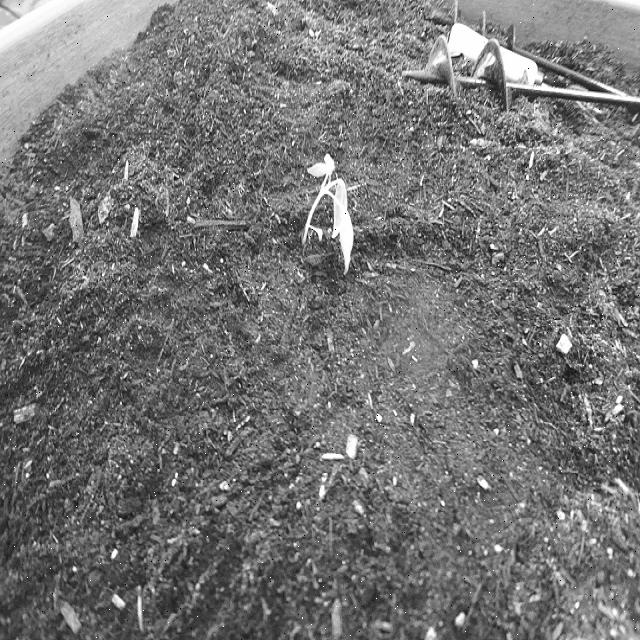Healthy: (288, 126, 366, 296)
